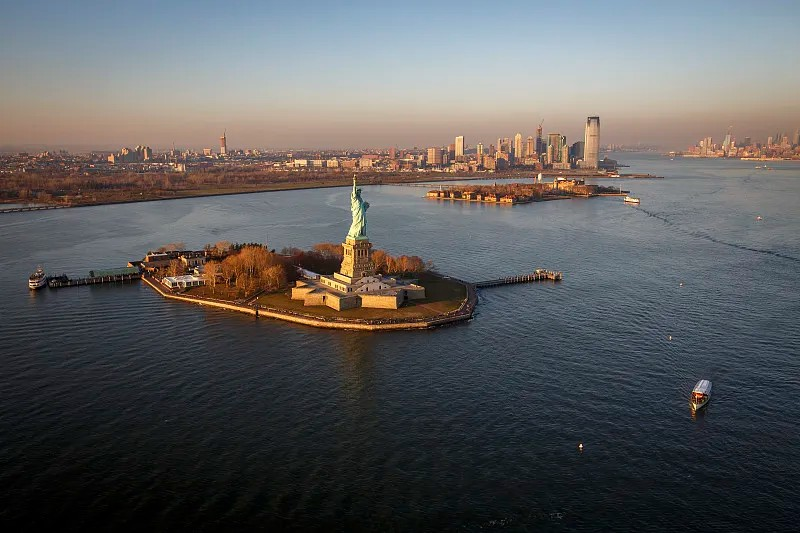SL: (340, 173, 375, 278)
